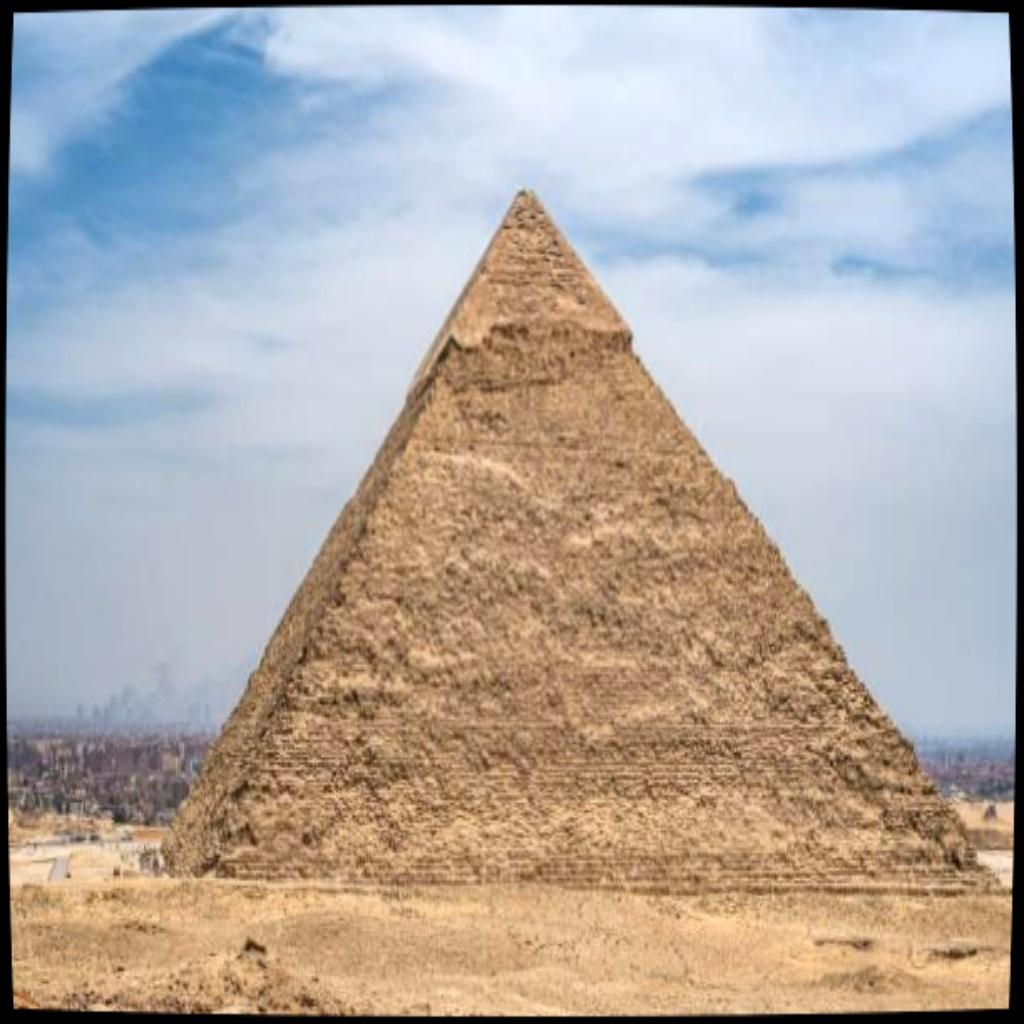Great Pyramids of Giza: (152, 181, 997, 901)
